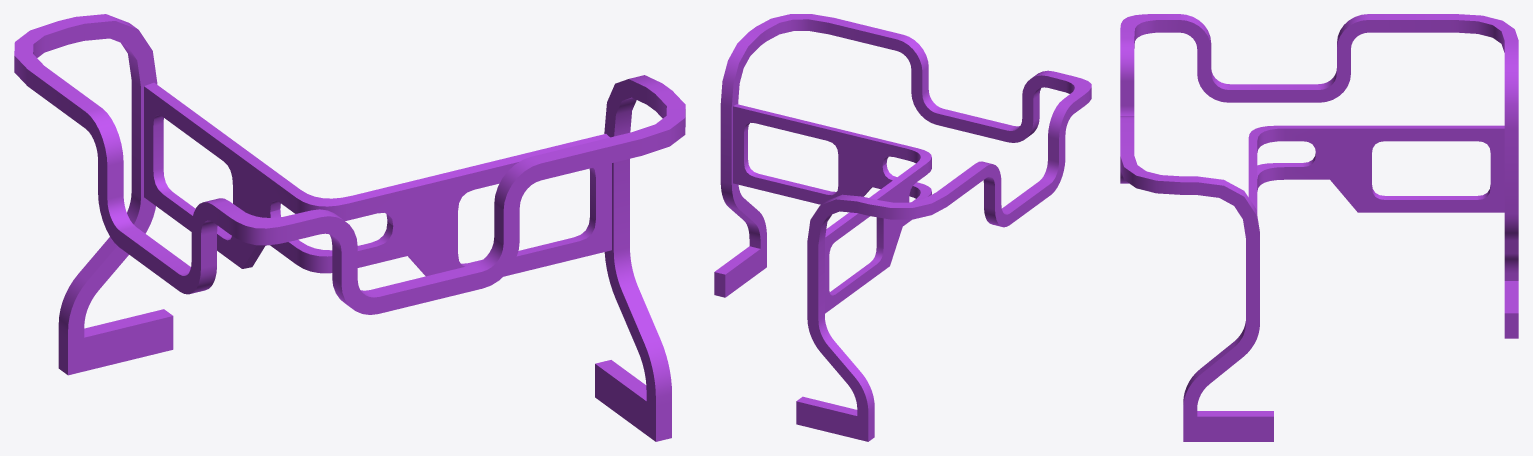
File: Rallings_B_Turn_Out.FBX
The picture shows the model from 3 angles, left to right: view 1: azimuth 30°, elevation 25°; view 2: azimuth 150°, elevation 25°; view 3: azimuth 270°, elevation 25°; orthographic projection. The views are drawn at different scales.
Parts seen in each view (by area): view 1: Rallings_B_Turn_Out; view 2: Rallings_B_Turn_Out; view 3: Rallings_B_Turn_Out.
Part boxes in pixels (x1,y1,x2,y2): Rallings_B_Turn_Out: (14, 14, 685, 441); Rallings_B_Turn_Out: (714, 14, 1091, 441); Rallings_B_Turn_Out: (1120, 14, 1518, 441).
Bounding box in the file's own units: 143 × 103 × 143.
